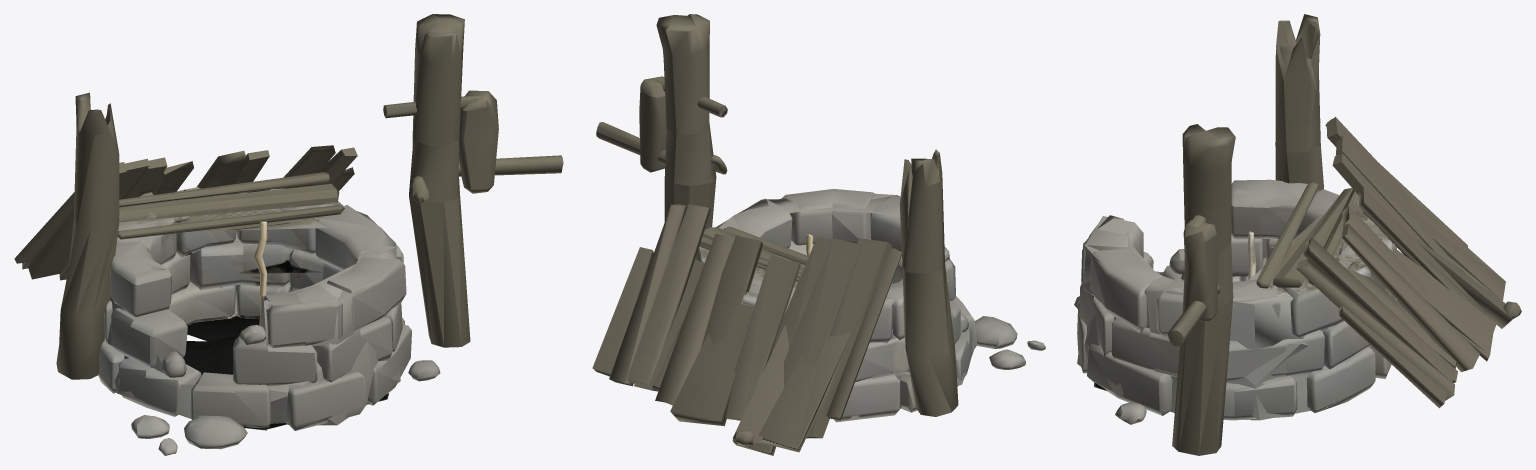
File: ruined_well.glb
3 views of the same model, side by side, from view 1: azimuth 30°, elevation 25°; view 2: azimuth 150°, elevation 25°; view 3: azimuth 270°, elevation 25° (orthographic). The views are drawn at different scales.
Visible parts, largest first — view 1: mesh_node; view 2: mesh_node; view 3: mesh_node.
Boxes of the visible parts, x1,y1,x2,y2 form: mesh_node: [14, 14, 563, 455]; mesh_node: [592, 14, 1045, 455]; mesh_node: [1074, 14, 1521, 455].
Bounding box in the file's own units: 1 × 0.6758 × 0.8789.
1 material, 1 textured.
